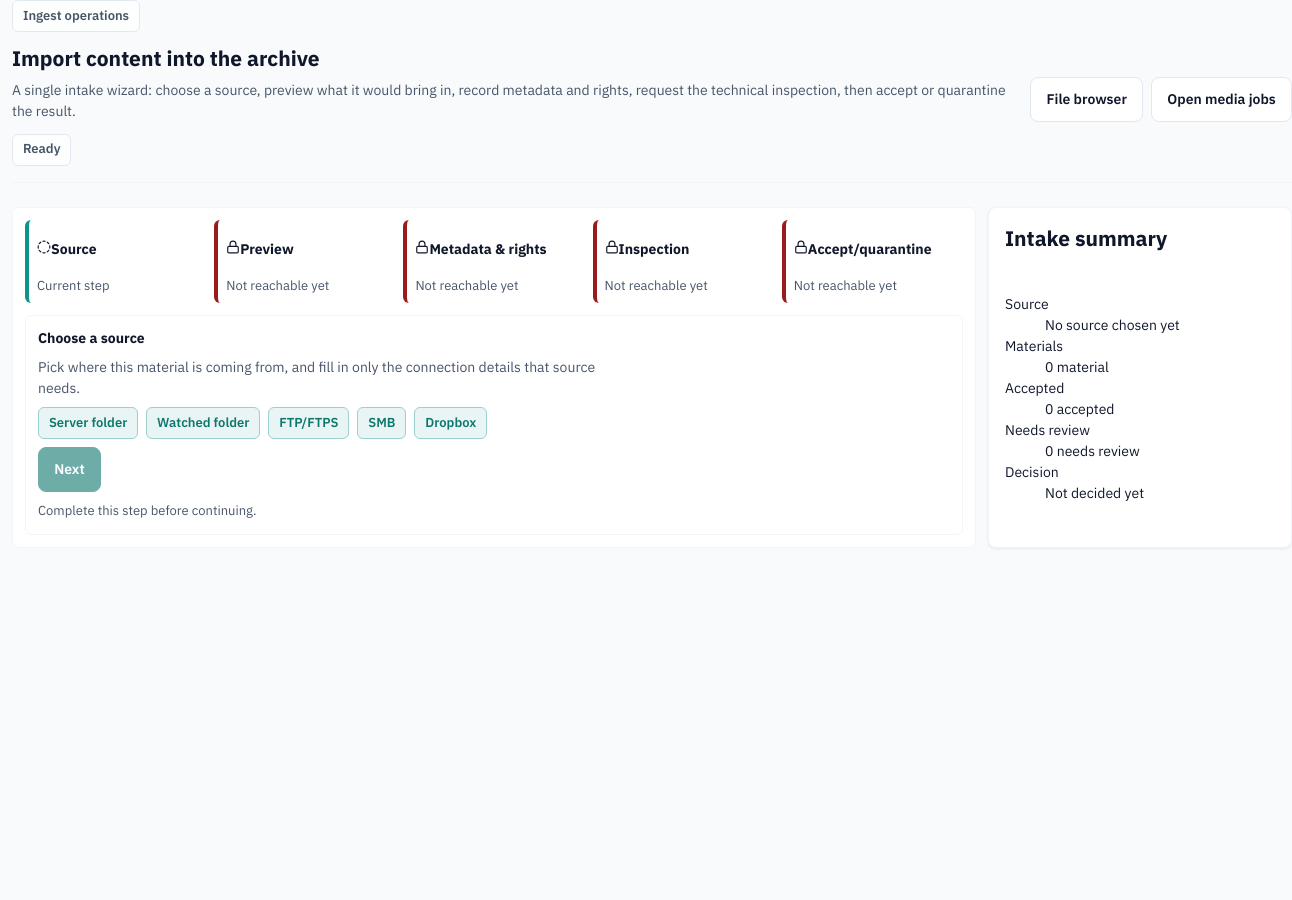
Test: ingest intake wizard › links each received record directly into its description and inspection work
Click the button "Server folder" at (88, 423), box x1=38 y1=407 x2=138 y2=439
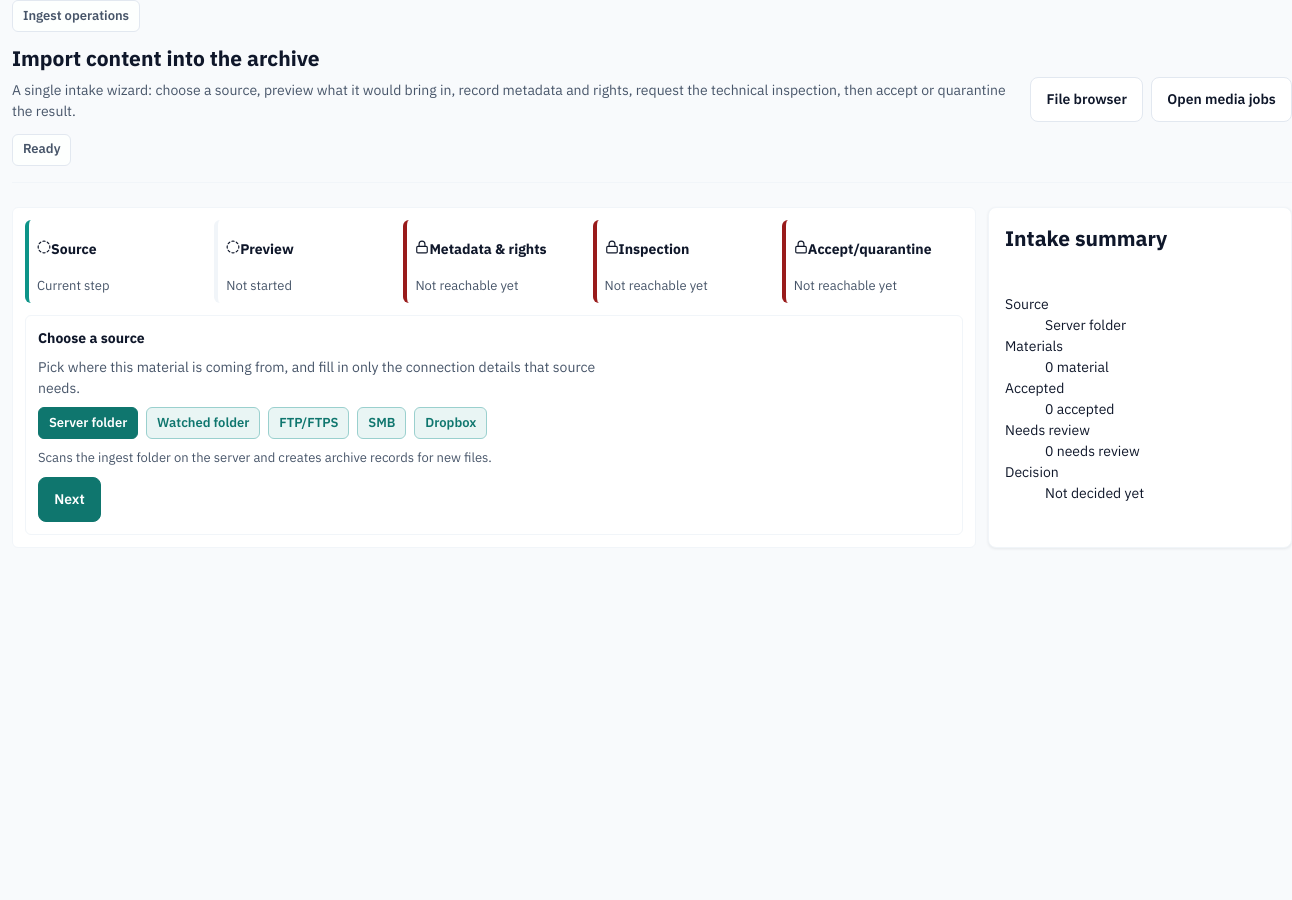
Click the button "Next" at (69, 500), box x1=38 y1=477 x2=101 y2=522
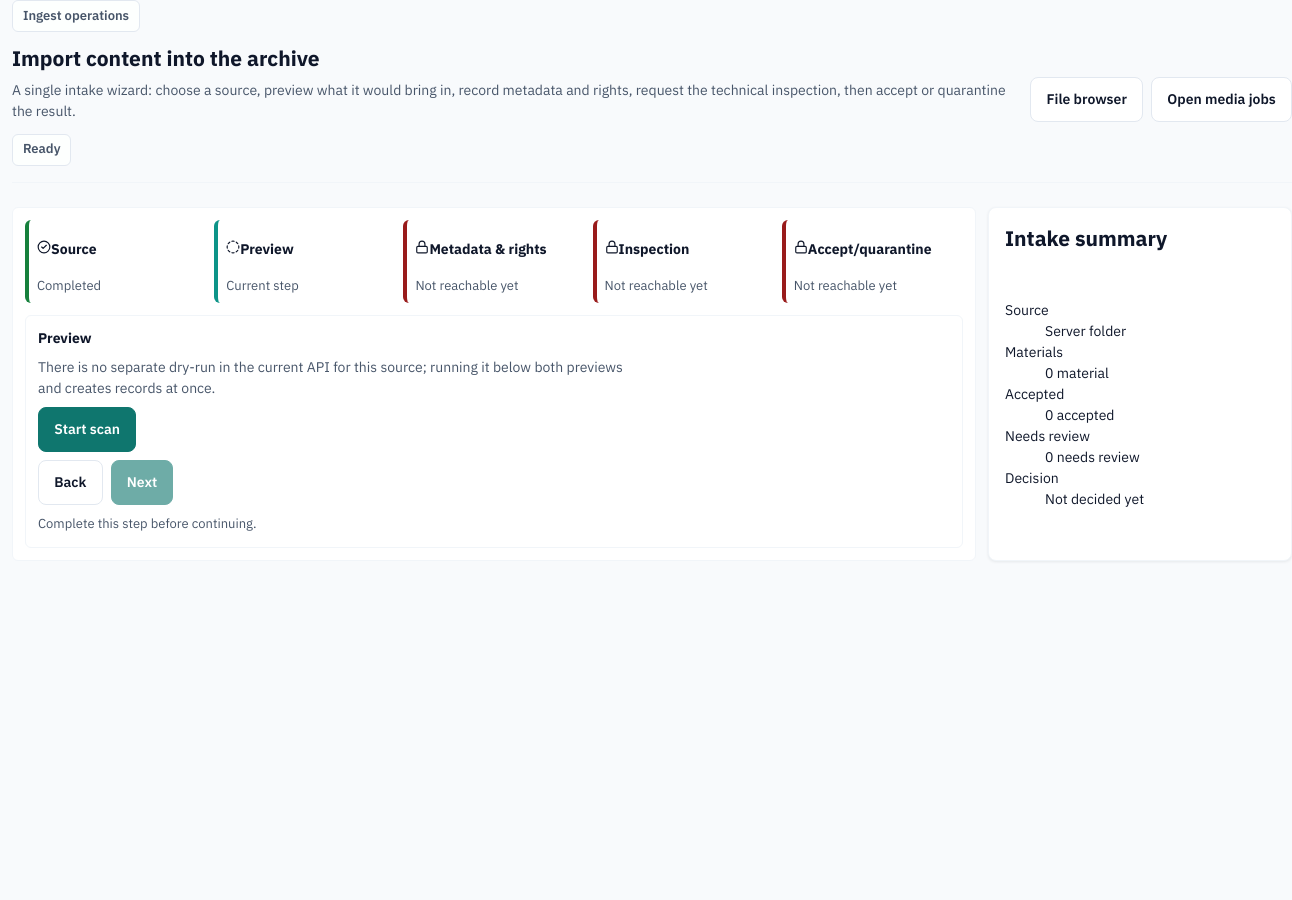
Click the button "Start scan" at (87, 429), box x1=38 y1=407 x2=136 y2=452
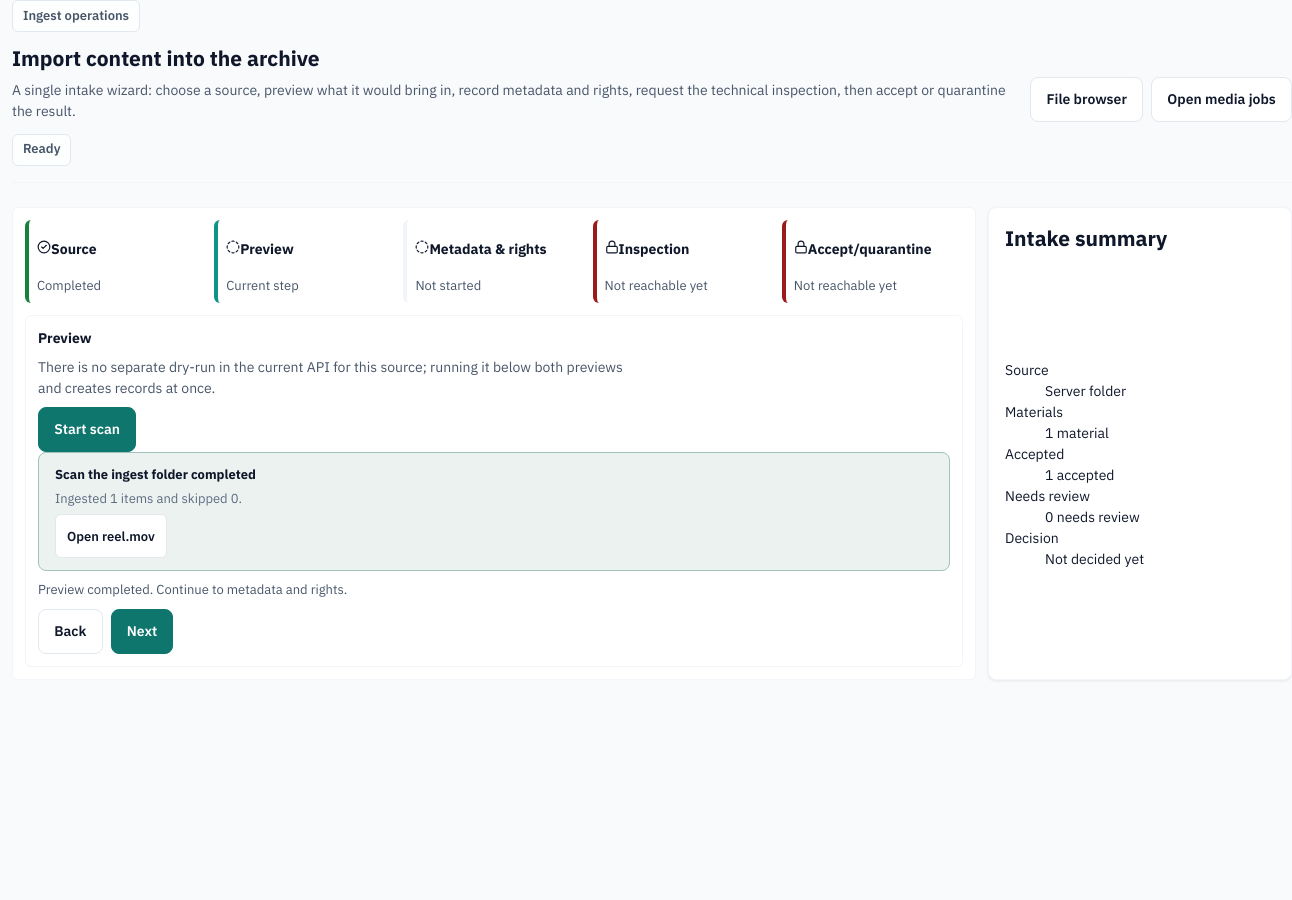
Check: the text "Scan the ingest folder completed" is shown, box x1=55 y1=465 x2=256 y2=484
